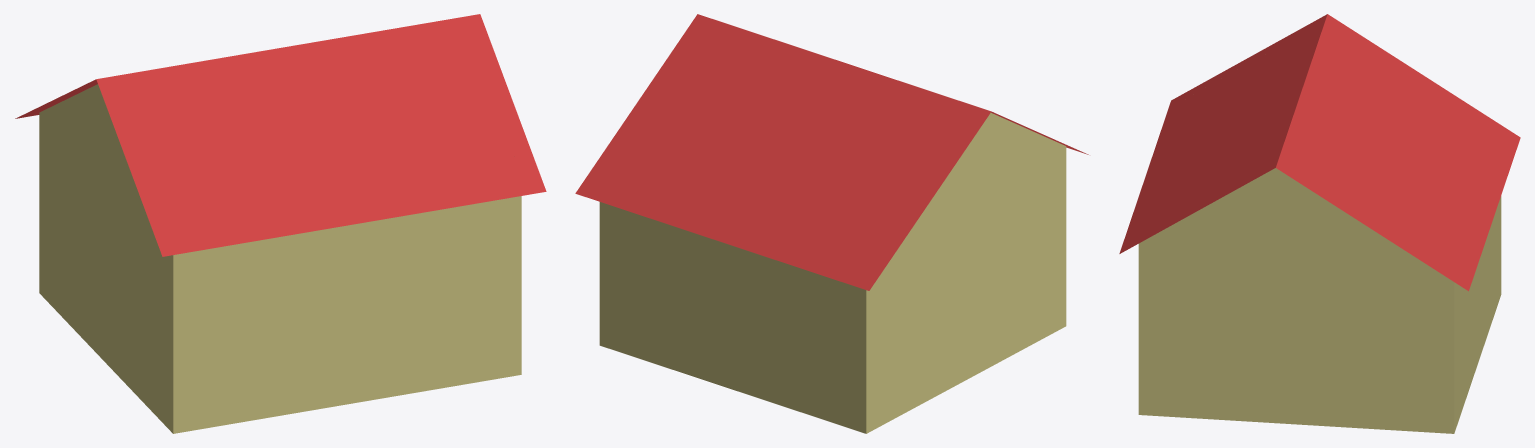
3 views of the same model, side by side, from view 1: azimuth 30°, elevation 25°; view 2: azimuth 150°, elevation 25°; view 3: azimuth 270°, elevation 25° (orthographic). The views are drawn at different scales.
Bounding box in the file's own units: 18.16 × 17.62 × 12.72.
